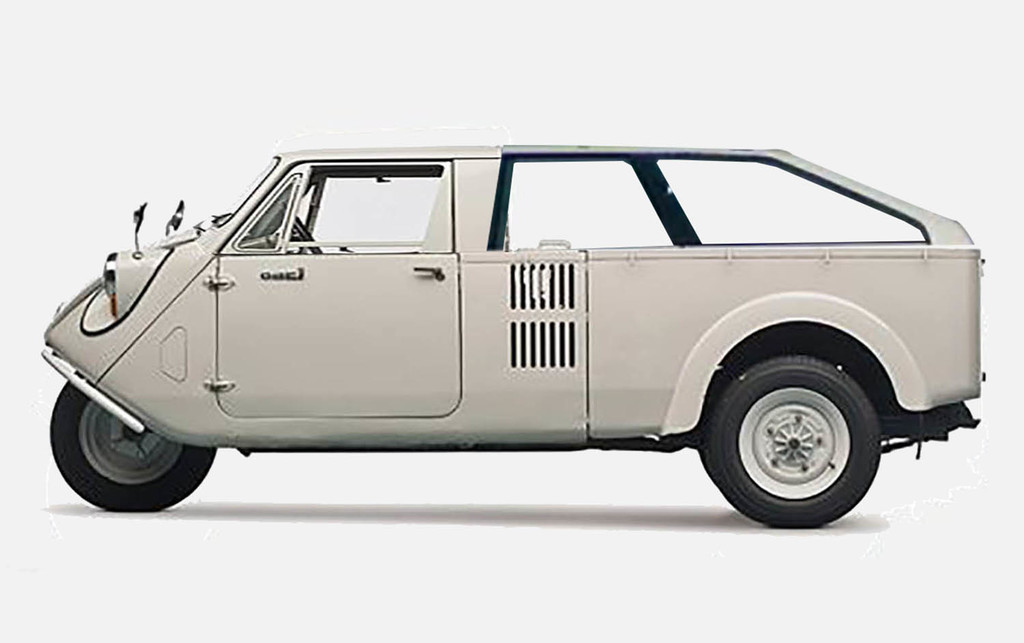cars: (13, 138, 1005, 535)
